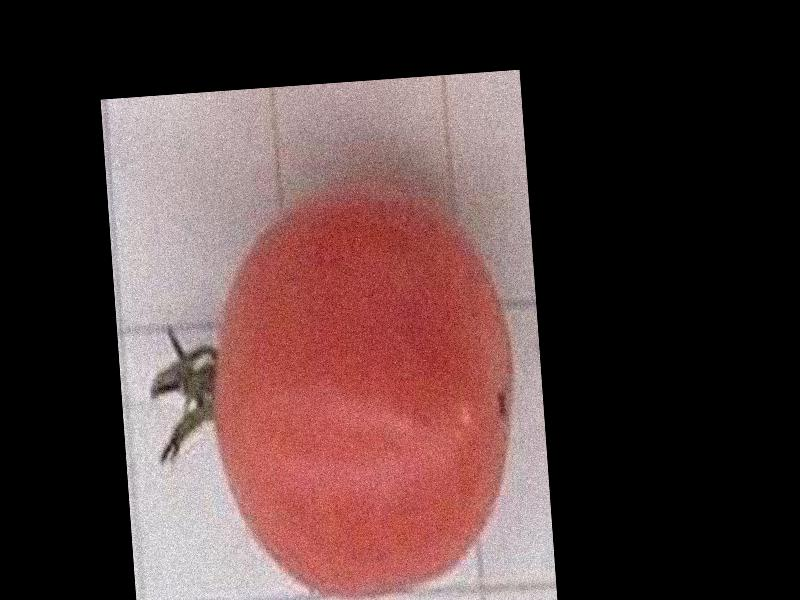Tomato: (200, 177, 528, 600)
